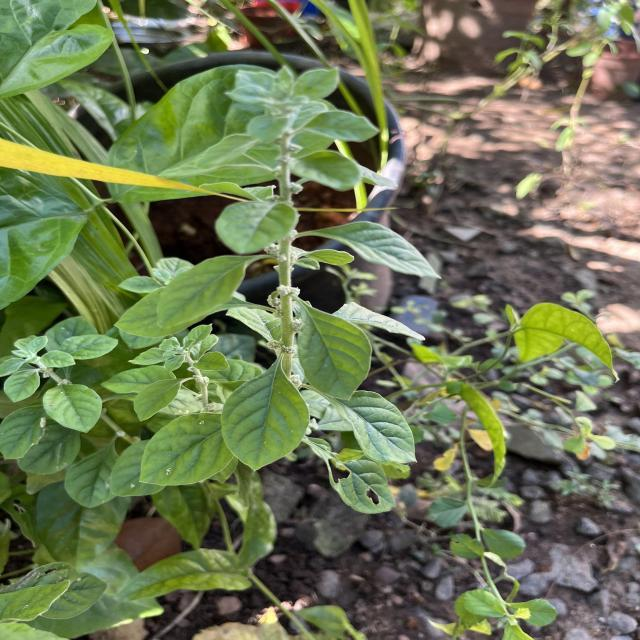Aerva lanata: (218, 366, 312, 474), (136, 410, 234, 488), (326, 388, 422, 466)
